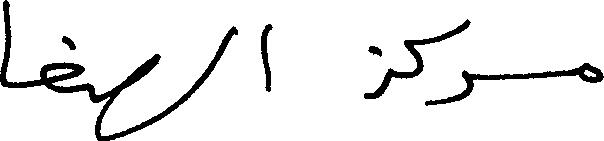X: (196, 21, 236, 94), (405, 30, 441, 110), (41, 31, 83, 97), (443, 14, 471, 108), (365, 41, 392, 103), (0, 0, 10, 92), (579, 58, 603, 87), (261, 19, 268, 96)
